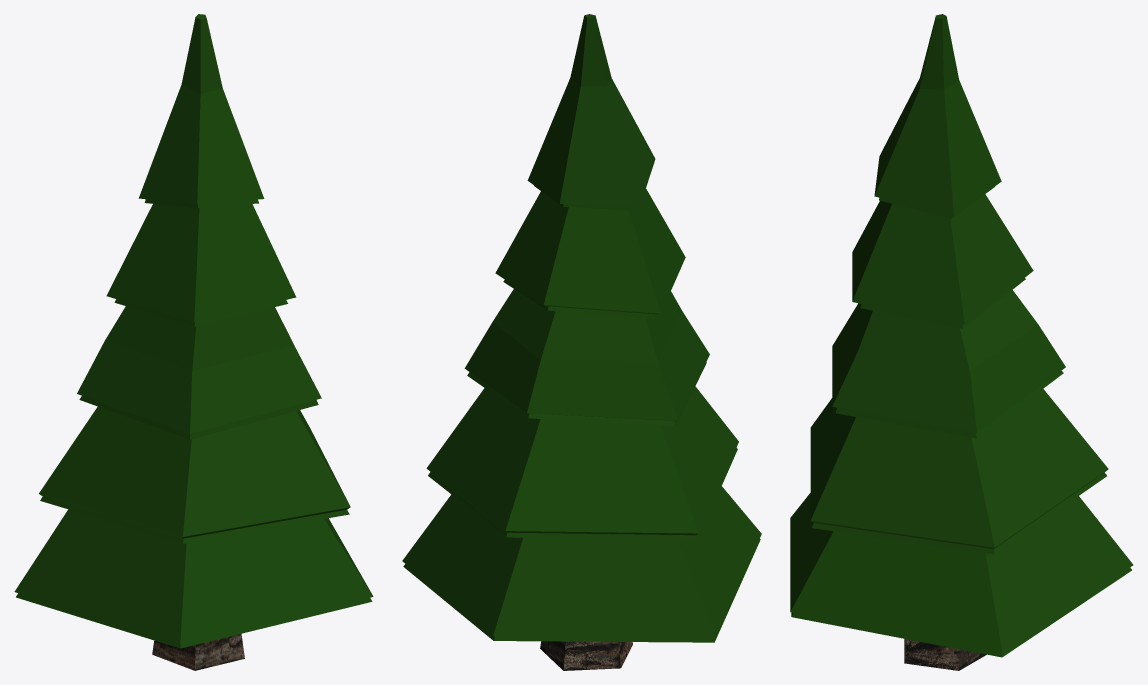
File: treeLowPolyobj.obj
3 renders of one model, left to right at view 1: azimuth 30°, elevation 25°; view 2: azimuth 150°, elevation 25°; view 3: azimuth 270°, elevation 25°, orthographic.
Visible parts, largest first — view 1: Cylinder; view 2: Cylinder; view 3: Cylinder.
Part boxes in pixels (<box>): Cylinder: <box>14,14,373,670</box>; Cylinder: <box>402,14,761,670</box>; Cylinder: <box>790,14,1133,670</box>.
Size of the model in its own units: 5.38 by 10.44 by 5.11.
Materials: 2 (2 with a texture image).
